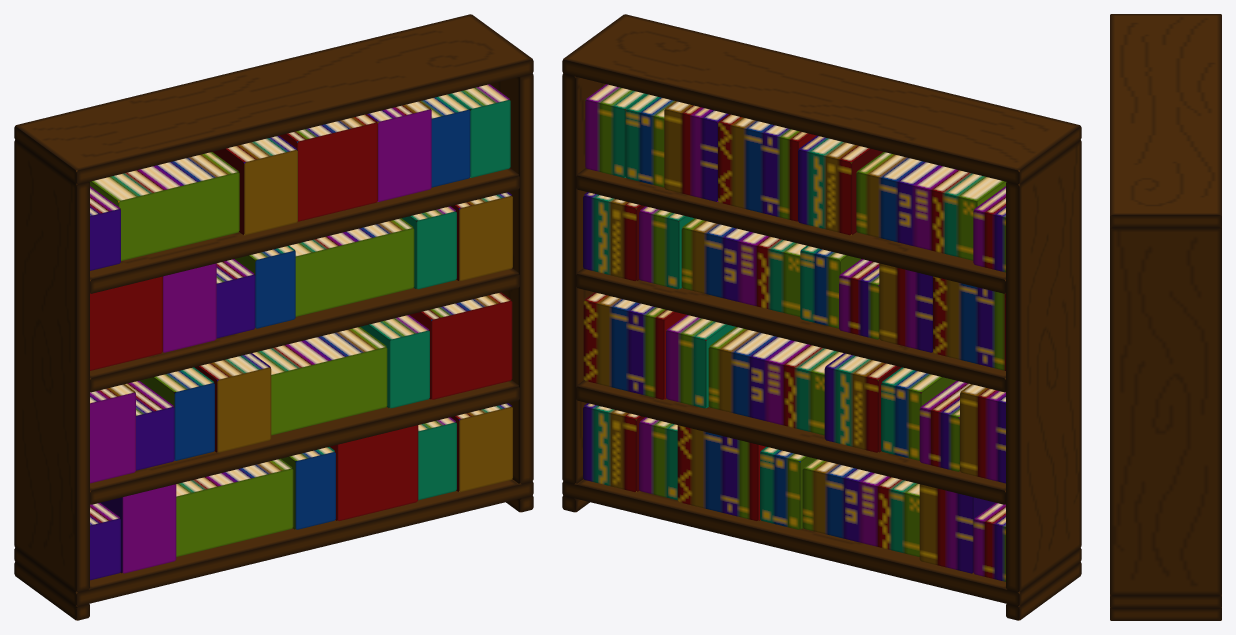
Rendered from bookshelf.fbx.
3 renders of one model, left to right at view 1: azimuth 30°, elevation 25°; view 2: azimuth 150°, elevation 25°; view 3: azimuth 270°, elevation 25°, orthographic. The views are drawn at different scales.
Parts seen in each view (by area): view 1: bookshelf; view 2: bookshelf; view 3: bookshelf.
Part boxes in pixels (bbox=[...]): bookshelf: bbox=[14, 14, 533, 620]; bookshelf: bbox=[562, 14, 1081, 620]; bookshelf: bbox=[1110, 14, 1221, 620].
Size of the model in its own units: 212 by 200 by 50.
Materials: 1 (1 with a texture image).
